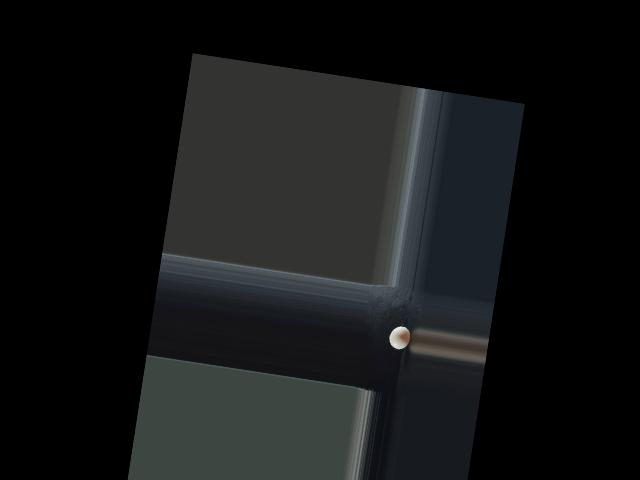egg: (387, 324, 412, 350)
